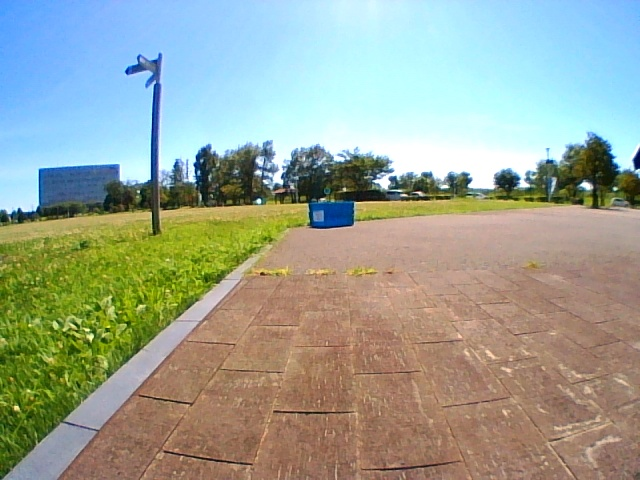blue_box: (308, 202, 353, 229)
tag: (313, 210, 322, 222)
